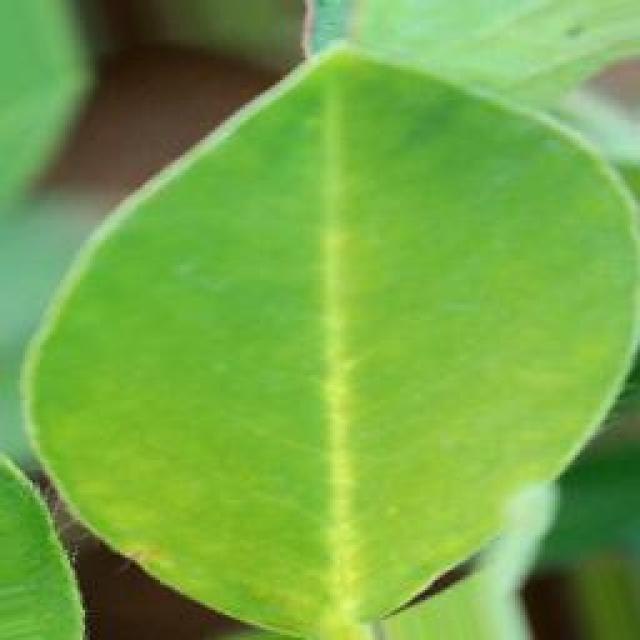Yellow_and_black_sigatoka: (17, 38, 640, 639)
